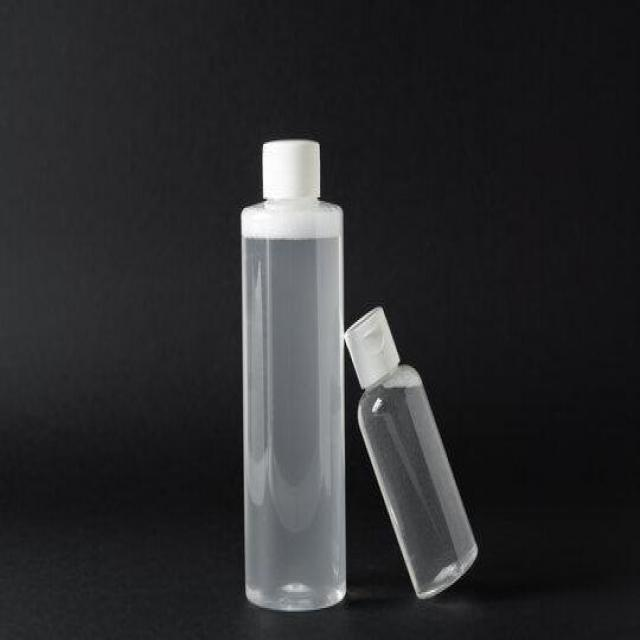gym bottle: (238, 132, 348, 615), (344, 304, 479, 601)
